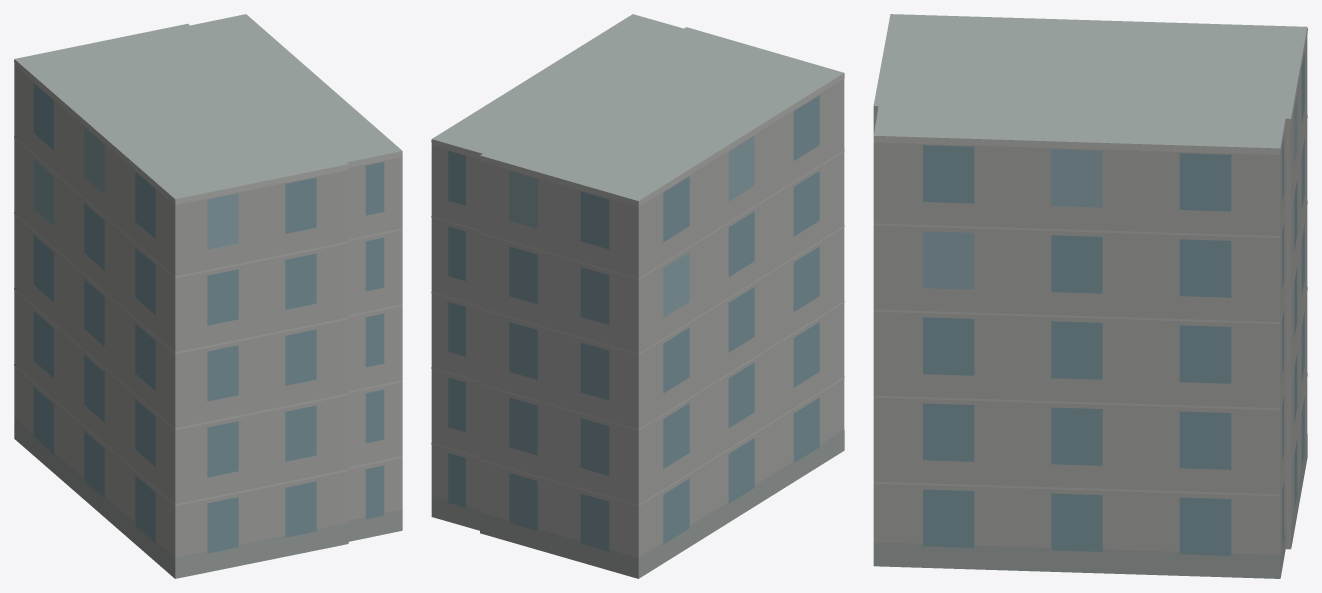
The model's file is survey-upis-32659245.glb.
The picture shows the model from 3 angles, left to right: view 1: azimuth 30°, elevation 25°; view 2: azimuth 150°, elevation 25°; view 3: azimuth 270°, elevation 25°; orthographic projection. The views are drawn at different scales.
Parts seen in each view (by area): view 1: survey-upis-32659245.tmp; view 2: survey-upis-32659245.tmp; view 3: survey-upis-32659245.tmp.
Boxes of the visible parts, box(x1,y1,x2,y2) form: survey-upis-32659245.tmp: box(14, 14, 402, 578); survey-upis-32659245.tmp: box(431, 14, 844, 578); survey-upis-32659245.tmp: box(873, 14, 1307, 578).
Bounding box in the file's own units: 10.44 × 15.55 × 14.23.
